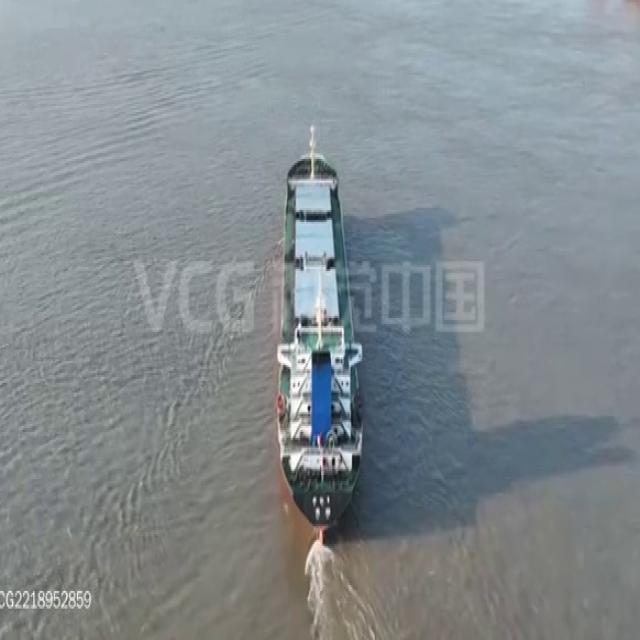cargoship: (273, 117, 363, 534)
